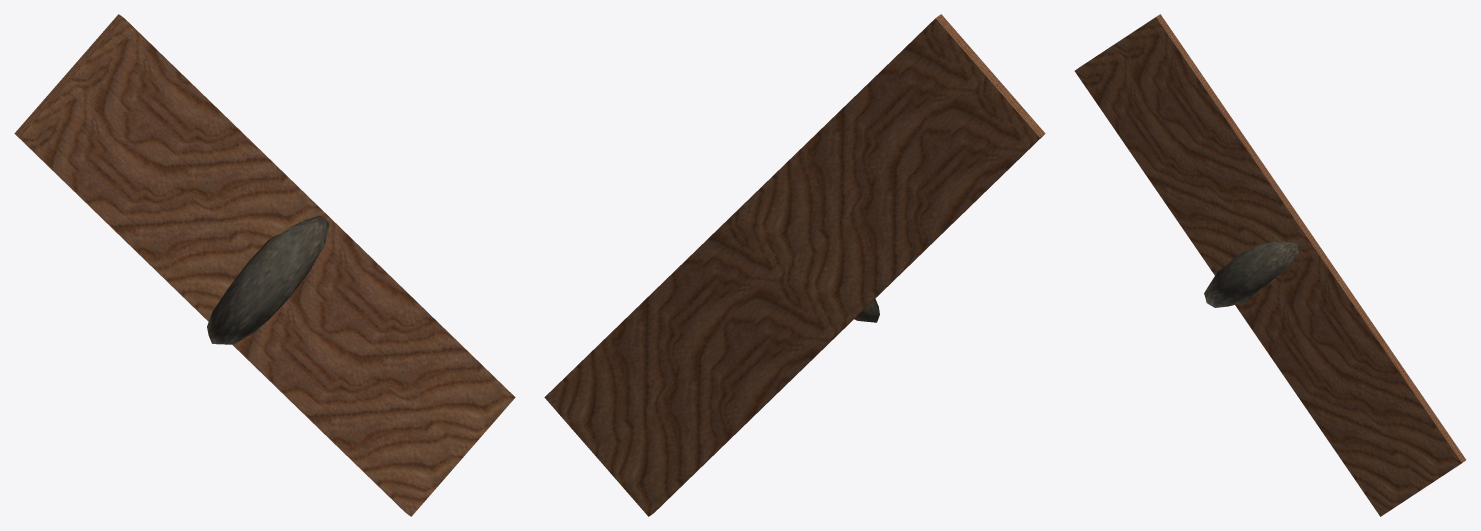
Rendered from env_anim_seesaw.glb.
3 views of the same model, side by side, from view 1: azimuth 30°, elevation 25°; view 2: azimuth 150°, elevation 25°; view 3: azimuth 330°, elevation 25° (orthographic). The views are drawn at different scales.
Visible parts, largest first — view 1: Box01, Rock; view 2: Box01; view 3: Box01, Rock.
Part boxes in pixels (x1,y1,x2,y2): Box01: [14, 14, 515, 516]; Rock: [207, 215, 329, 344]; Box01: [544, 14, 1045, 516]; Box01: [1074, 14, 1466, 516]; Rock: [1204, 241, 1298, 307].
Bounding box in the file's own units: 4.8 × 5.26 × 0.5046.
2 materials, 2 textured.
